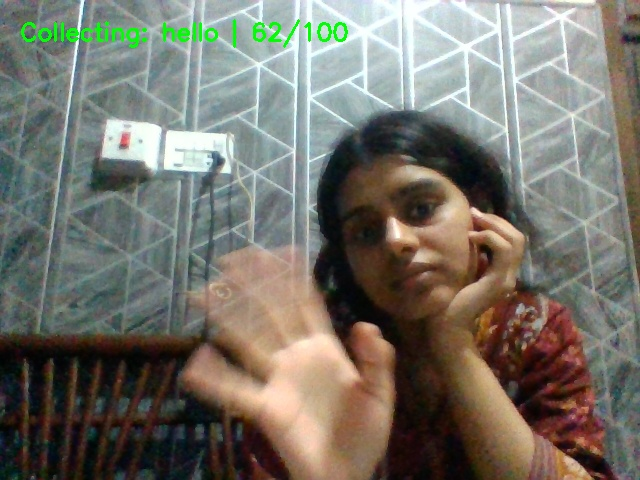hello: (169, 248, 405, 480)
